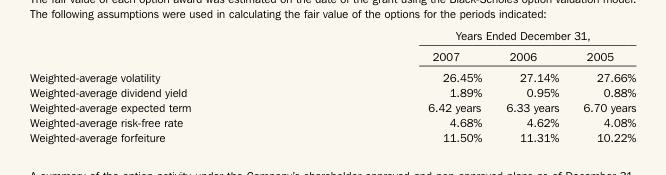table: (29, 28, 635, 143)
table column: (29, 28, 308, 143), (308, 28, 493, 143), (493, 28, 570, 143), (570, 28, 635, 143)
table column header: (29, 28, 635, 66)
table row: (29, 45, 635, 66), (29, 28, 635, 45), (29, 66, 635, 83), (29, 83, 635, 99), (29, 99, 635, 114), (29, 114, 635, 129), (29, 129, 635, 143)
table spanning cell: (308, 28, 635, 45)
